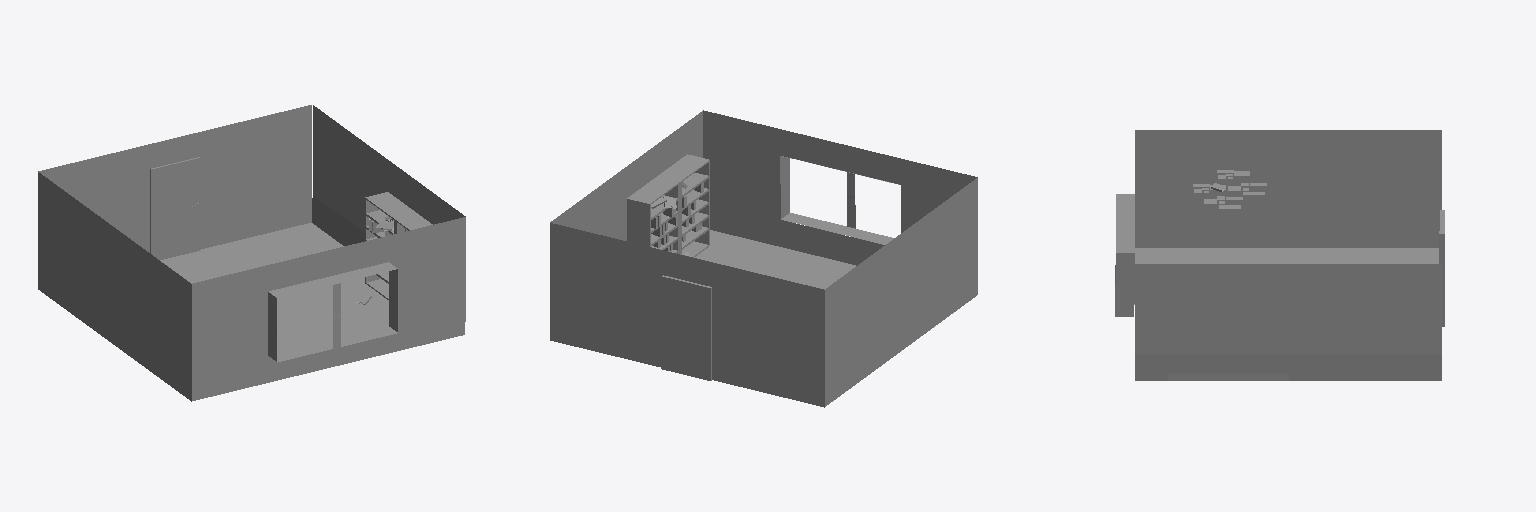
The model's file is Room.obj.
3 views of the same model, side by side, from view 1: azimuth 30°, elevation 25°; view 2: azimuth 150°, elevation 25°; view 3: azimuth 270°, elevation 25° (orthographic).
Parts seen in each view (by area): view 1: Плоскость.035_Плоскость.006, Плоскость.035_Плоскость.001_Плоскост; view 2: Плоскость.035_Плоскость.006, Плоскость.035_Плоскость.001_Плоскост; view 3: Плоскость.035_Плоскость.006.
Part boxes in pixels (bbox=[...]): Плоскость.035_Плоскость.006: bbox=[38, 105, 465, 401]; Плоскость.035_Плоскость.001_Плоскост: bbox=[150, 157, 199, 259]; Плоскость.035_Плоскость.006: bbox=[550, 110, 977, 407]; Плоскость.035_Плоскость.001_Плоскост: bbox=[661, 275, 711, 380]; Плоскость.035_Плоскость.006: bbox=[1115, 130, 1441, 380].
Bounding box in the file's own units: 14.29 × 5.86 × 14.84.